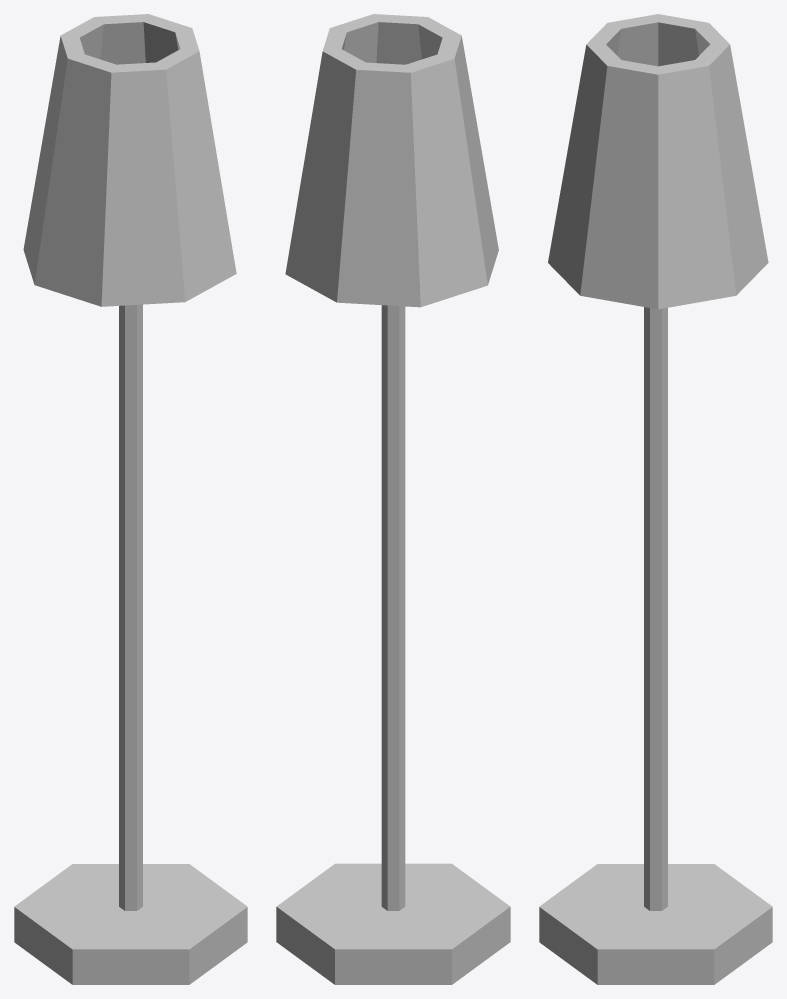
File: Lamp.glb
3 views of the same model, side by side, from view 1: azimuth 30°, elevation 25°; view 2: azimuth 150°, elevation 25°; view 3: azimuth 270°, elevation 25° (orthographic).
Visible parts, largest first — view 1: Lamp; view 2: Lamp; view 3: Lamp.
Boxes of the visible parts, x1=… form: Lamp: x1=14, y1=14, x2=247, y2=984; Lamp: x1=276, y1=14, x2=510, y2=984; Lamp: x1=539, y1=14, x2=772, y2=984.
Bounding box in the file's own units: 0.2313 × 1.04 × 0.2449.
2 materials, 2 textured.
